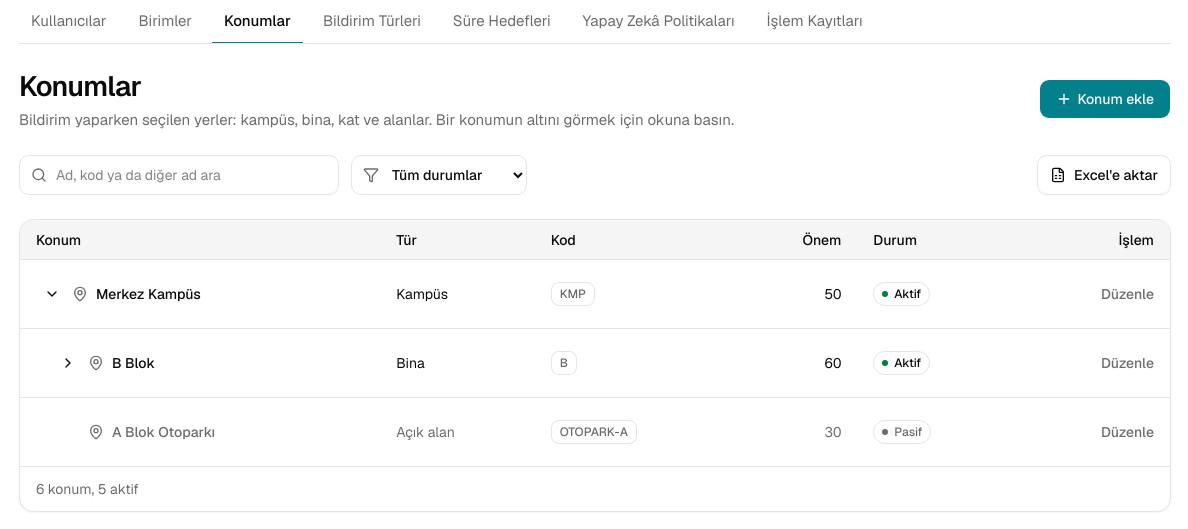
Test: LocationsScreen › offers to clear the filters when nothing matches
The width and height of the screenshot is (1188, 529).
Type "olmayan yer" into the search field named "Konum ara". click: (179, 175)
box: [19,155,339,195]
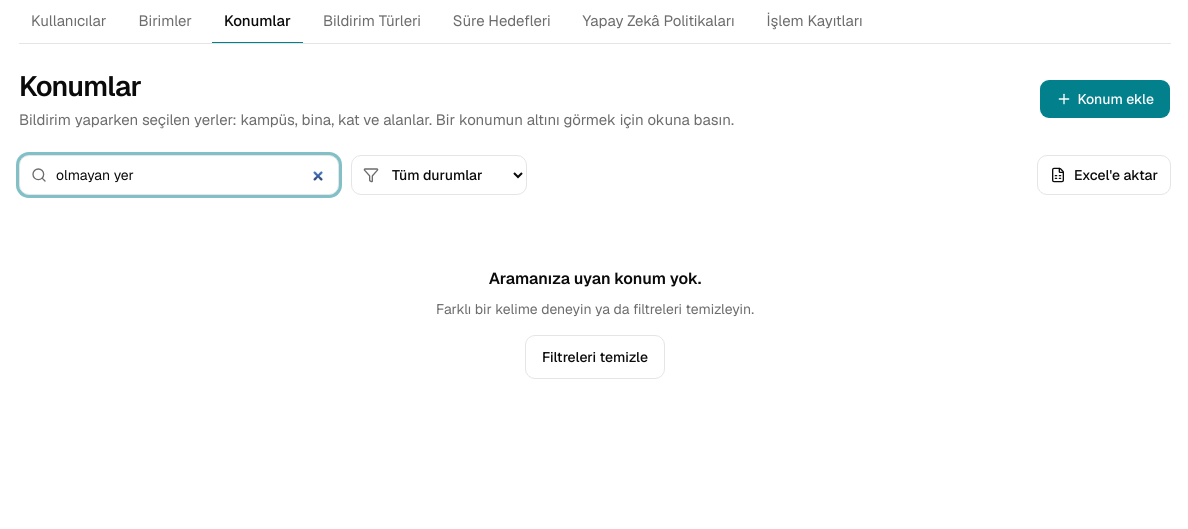
Expected: the text "Aramanıza uyan konum yok." is shown, [489,267,701,291]
Click the button "Filtreleri temizle". click: (595, 357)
box: [525,335,665,379]
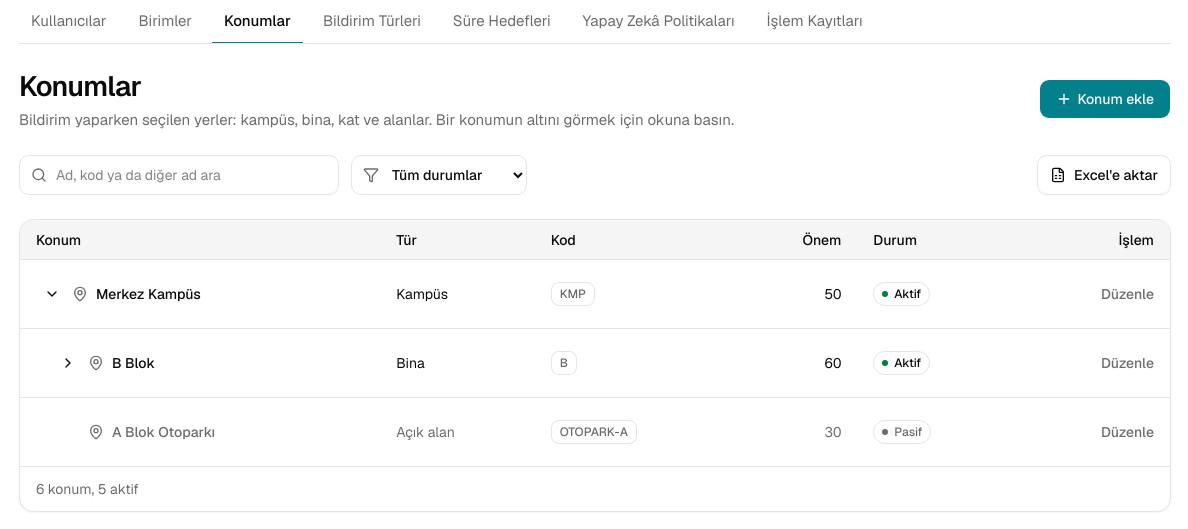
Expected: the row "B Blok" is shown, [20,329,1170,398]
